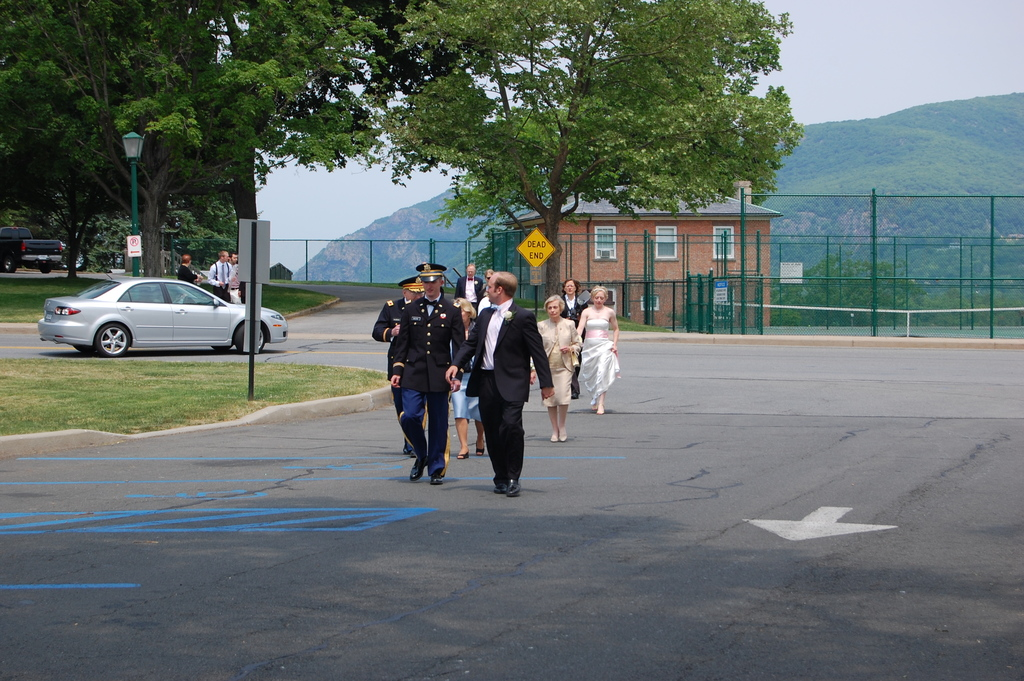Car: (32, 272, 293, 351)
